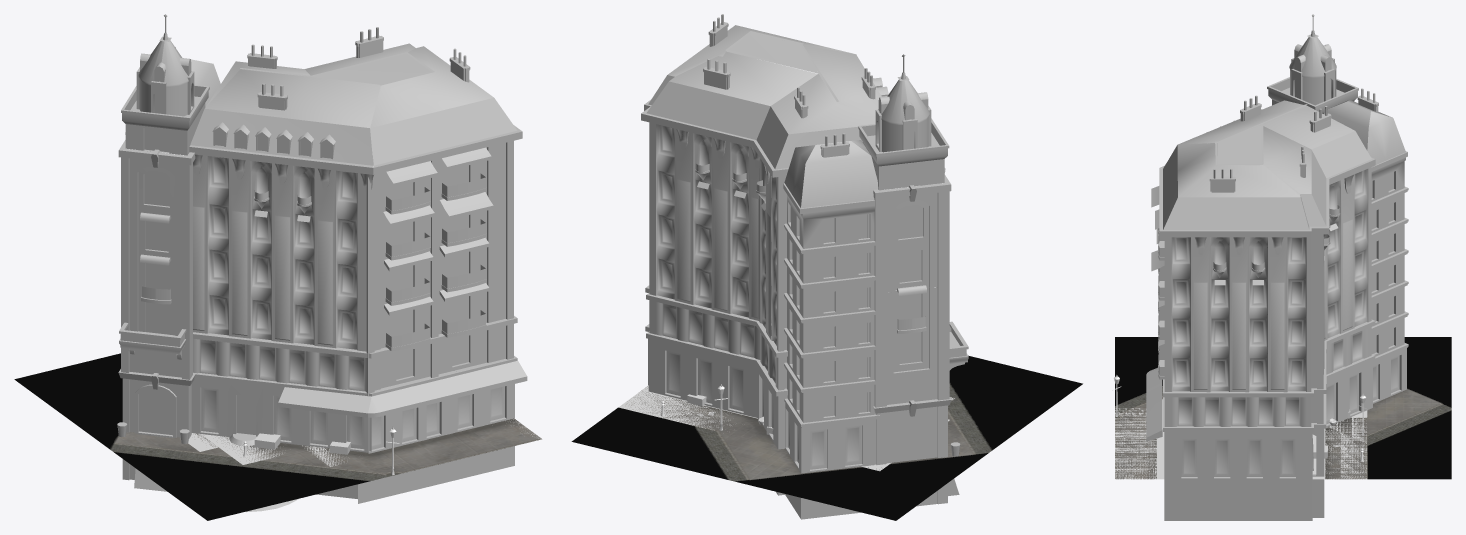
File: wide.gltf
3 views of the same model, side by side, from view 1: azimuth 30°, elevation 25°; view 2: azimuth 150°, elevation 25°; view 3: azimuth 270°, elevation 25° (orthographic). The views are drawn at different scales.
Parts seen in each view (by area): view 1: _lod0, _ground, BuildBlocker12; view 2: _lod0, _ground, BuildBlocker11; view 3: _lod0, _ground, BuildBlocker11, PriorityFeedbackBlocker1.001.
Part boxes in pixels (x1,y1,x2,y2): _lod0: (117, 14, 527, 512); _ground: (14, 353, 541, 520); BuildBlocker12: (201, 434, 282, 464); _lod0: (641, 14, 968, 519); _ground: (571, 355, 1082, 520); BuildBlocker11: (618, 386, 731, 430); _lod0: (1146, 14, 1408, 520); _ground: (1115, 337, 1451, 479); BuildBlocker11: (1115, 408, 1367, 479); PriorityFeedbackBlocker1.001: (1157, 417, 1325, 479).
Size of what is drawn, in the model's own units: 4.08 by 5.18 by 4.03.
